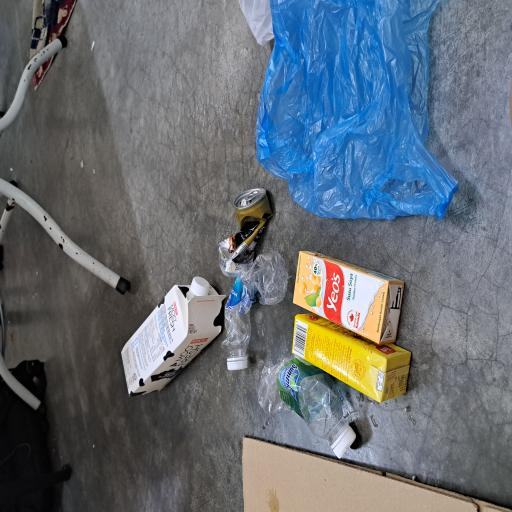can: (176, 291, 244, 362)
cardboard: (0, 321, 59, 512)
drink carton: (86, 160, 170, 301), (124, 390, 196, 512), (82, 388, 148, 512)
plastic bag: (217, 340, 384, 512)
plastic bottle: (51, 343, 115, 464), (115, 294, 197, 385)
plastic bottle cap: (39, 444, 64, 475), (106, 302, 116, 331)
pop tab: (234, 327, 242, 346)
